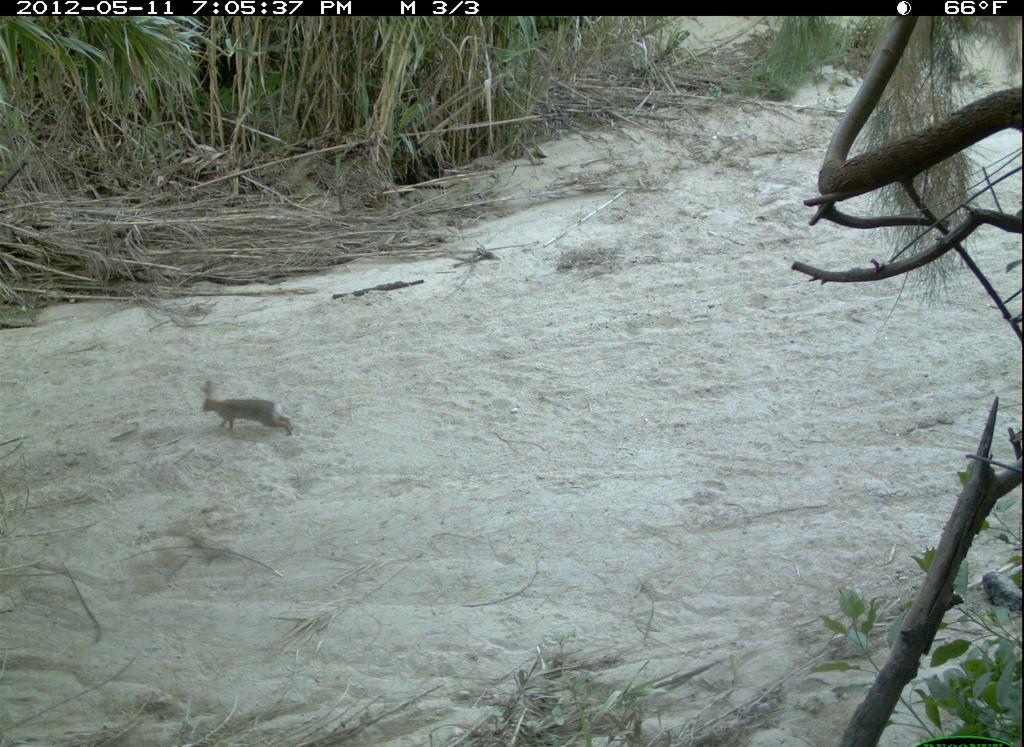rabbit: (189, 368, 310, 452)
